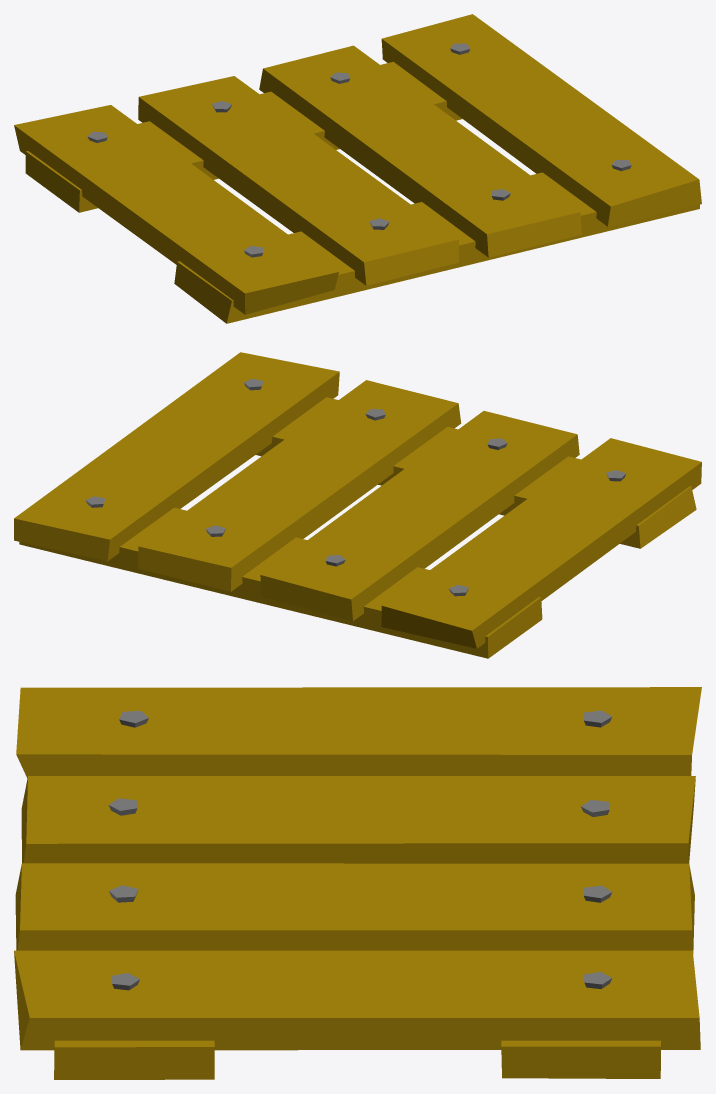
Rendered from raft.glb.
3 renders of one model, top to bottom at view 1: azimuth 30°, elevation 25°; view 2: azimuth 150°, elevation 25°; view 3: azimuth 270°, elevation 25°, orthographic. The views are drawn at different scales.
Visible parts, largest first — view 1: Raft; view 2: Raft; view 3: Raft.
Boxes of the visible parts, x1=… form: Raft: x1=14, y1=14, x2=701, y2=323; Raft: x1=14, y1=352, x2=701, y2=658; Raft: x1=14, y1=687, x2=701, y2=1079.
Size of the model in its own units: 1.44 by 0.1206 by 1.23.
